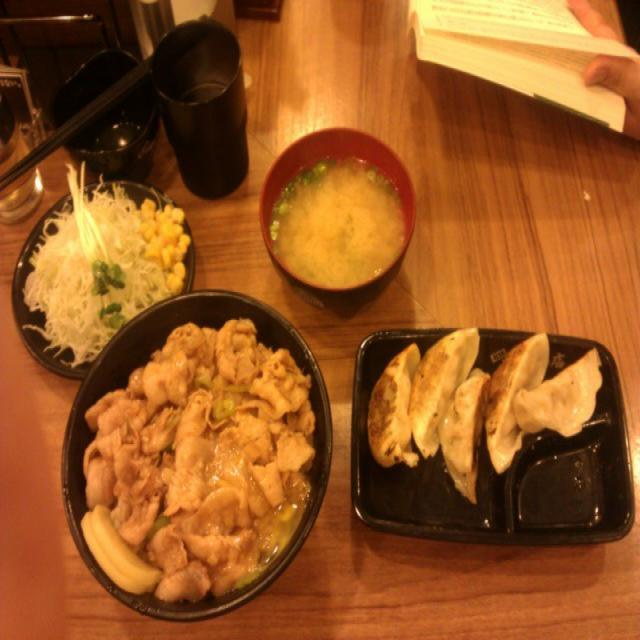Green Salad: (42, 182, 175, 354)
